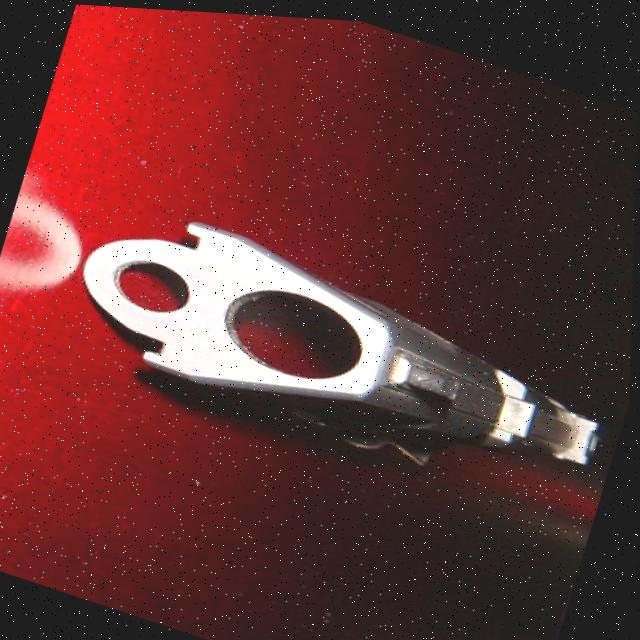pistol: (49, 183, 634, 516)
